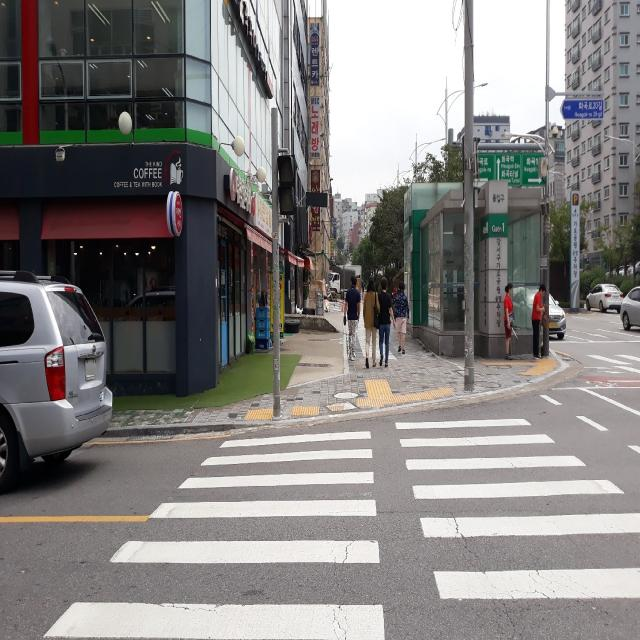횡단보도: (41, 416, 640, 640)
